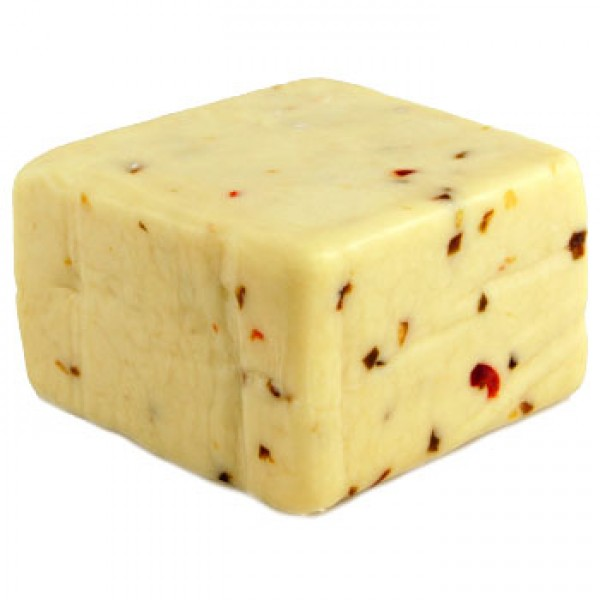cheese: (15, 61, 596, 515)
